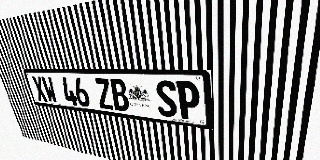4: (59, 77, 78, 106)
6: (71, 77, 91, 107)
B: (109, 79, 130, 112)
P: (176, 81, 200, 121)
S: (154, 80, 178, 118)
W: (41, 76, 58, 103)
X: (31, 76, 48, 102)
Z: (94, 78, 114, 110)
